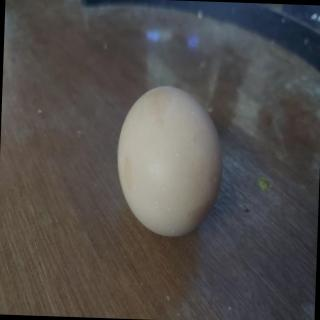Telur: (115, 82, 229, 241)
